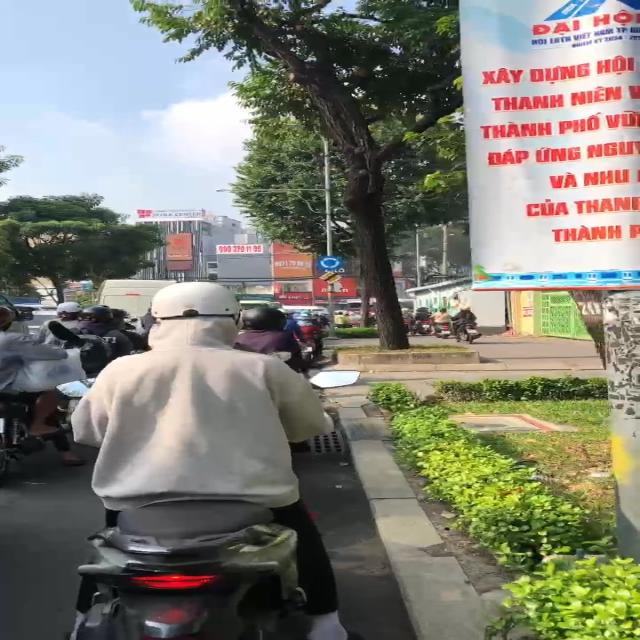Bien bao noi giao nhau chay theo vong xuyen: (315, 255, 348, 270)
